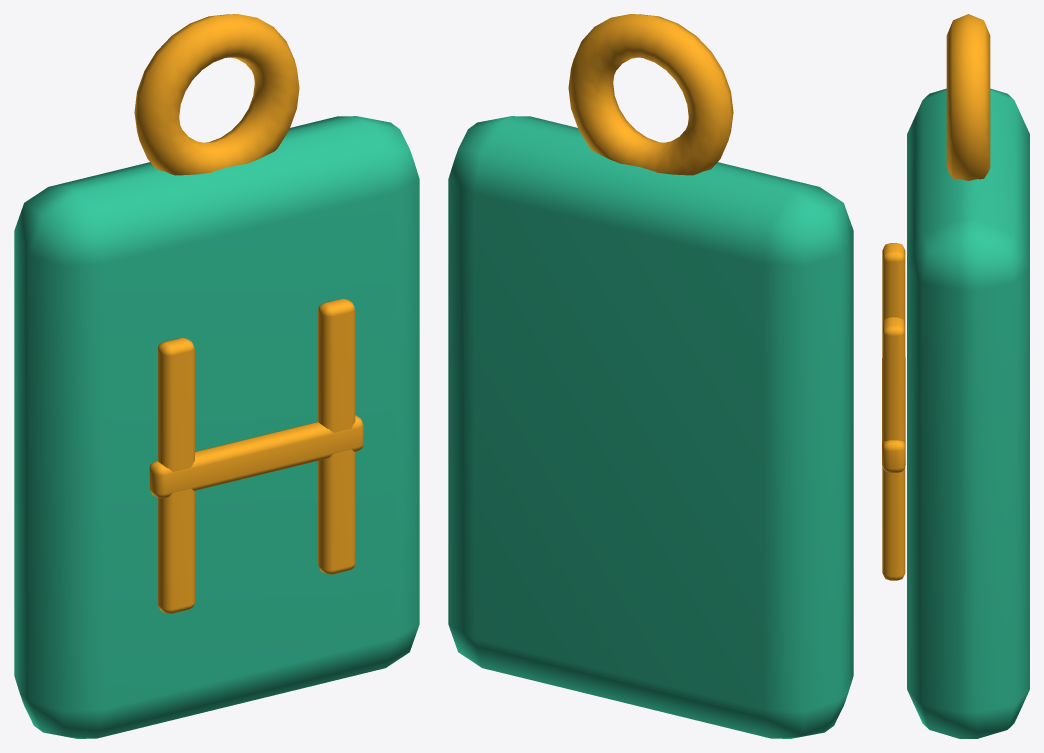
File: jadetalisman.glb
3 renders of one model, left to right at view 1: azimuth 30°, elevation 25°; view 2: azimuth 150°, elevation 25°; view 3: azimuth 270°, elevation 25°, orthographic. The views are drawn at different scales.
Visible parts, largest first — view 1: jadetalisman; view 2: jadetalisman; view 3: jadetalisman.
Part boxes in pixels (box(x1,y1,x2,y2)): jadetalisman: box(14, 14, 419, 738); jadetalisman: box(448, 14, 853, 738); jadetalisman: box(882, 14, 1029, 738).
Bounding box in the file's own units: 0.589 × 1 × 0.2067.
Materials: 1 (1 with a texture image).
